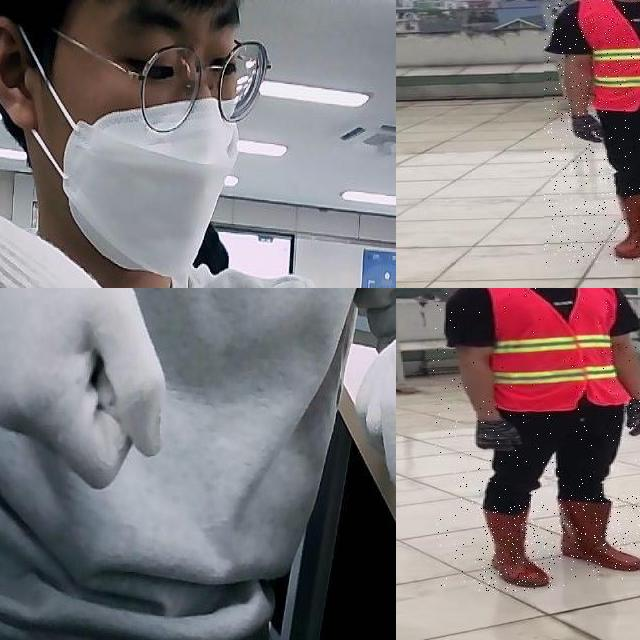BOOTS: (479, 505, 555, 591), (559, 495, 640, 572), (609, 190, 640, 262)
GLOVE: (0, 288, 166, 487), (476, 418, 522, 451), (570, 113, 610, 144), (627, 396, 640, 436)
VEST: (471, 288, 635, 411), (575, 0, 640, 110)
